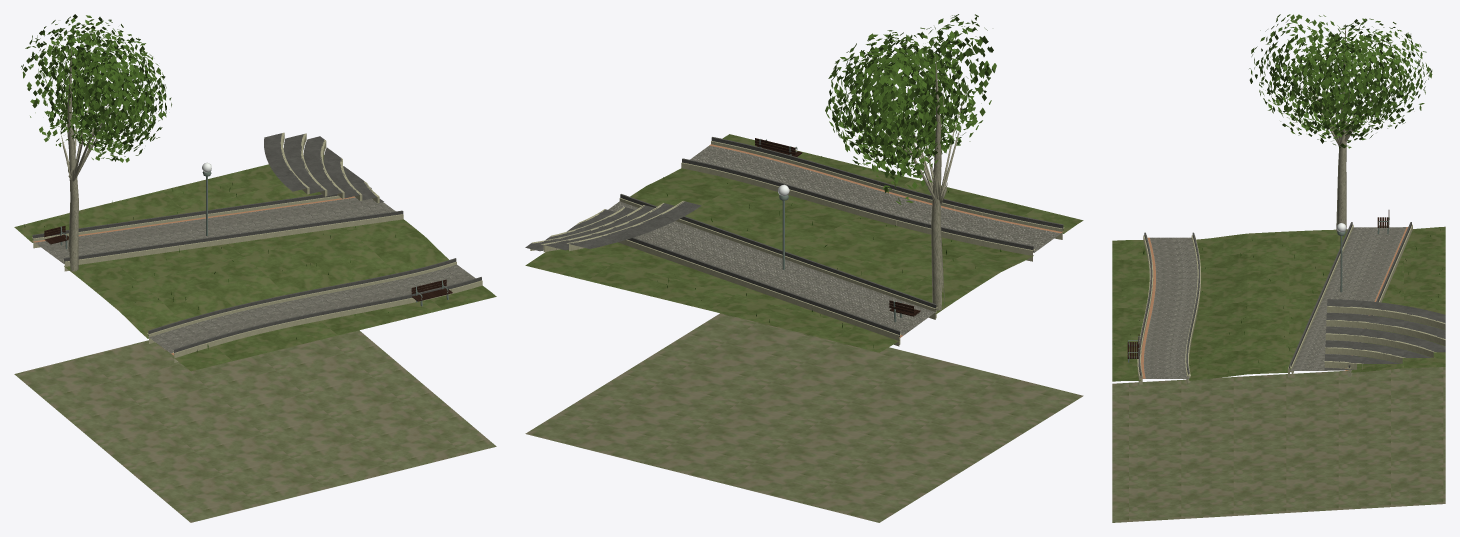
The picture shows the model from 3 angles, left to right: view 1: azimuth 30°, elevation 25°; view 2: azimuth 150°, elevation 25°; view 3: azimuth 270°, elevation 25°; orthographic projection. The views are drawn at different scales.
Size of the model in its own units: 16 by 19.89 by 16.
Materials: 13 (11 with a texture image).
